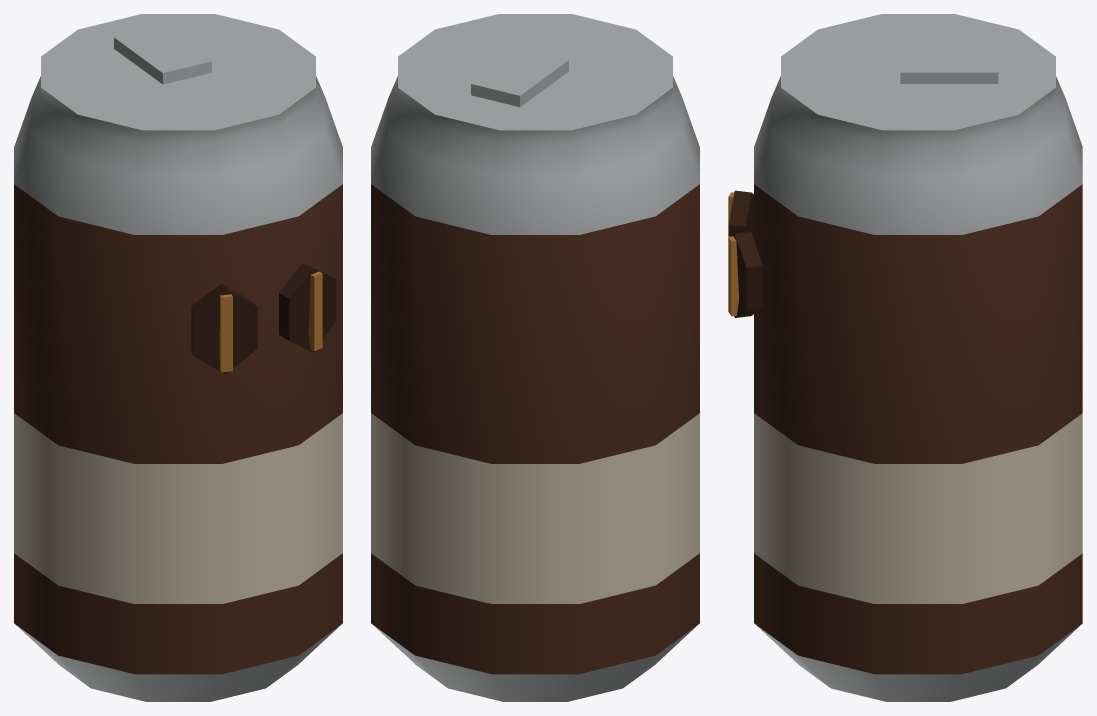
File: hh_ca_phe.glb
3 renders of one model, left to right at view 1: azimuth 30°, elevation 25°; view 2: azimuth 150°, elevation 25°; view 3: azimuth 270°, elevation 25°, orthographic.
Visible parts, largest first — view 1: hh_ca_phe; view 2: hh_ca_phe; view 3: hh_ca_phe.
Part boxes in pixels (left/top/right/bottom): hh_ca_phe: left=14, top=14, right=342, bottom=701; hh_ca_phe: left=371, top=14, right=699, bottom=701; hh_ca_phe: left=728, top=14, right=1082, bottom=701.
Size of the model in its own units: 0.0638 by 0.1265 by 0.0688.
